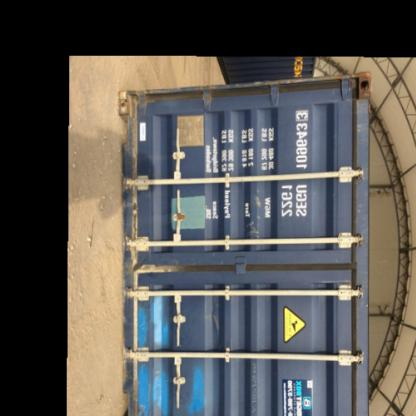Damage: (132, 247, 178, 288), (125, 98, 144, 183), (124, 186, 141, 249), (128, 356, 144, 415)
